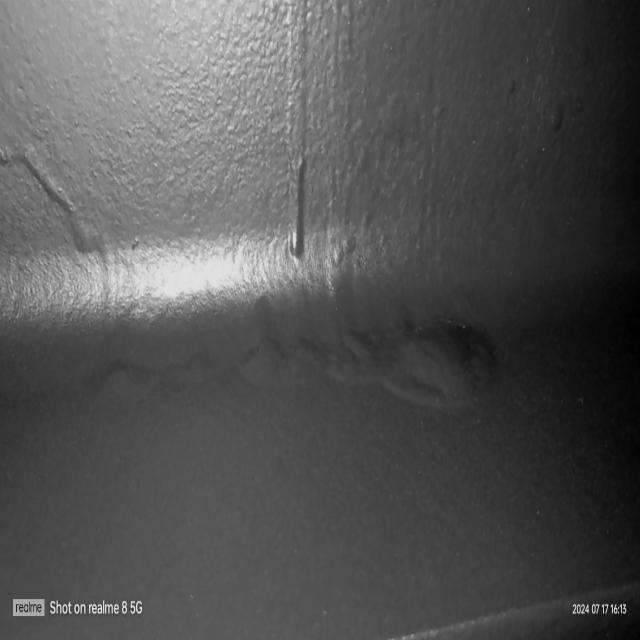paint drips: (280, 0, 362, 270), (0, 92, 122, 263)
